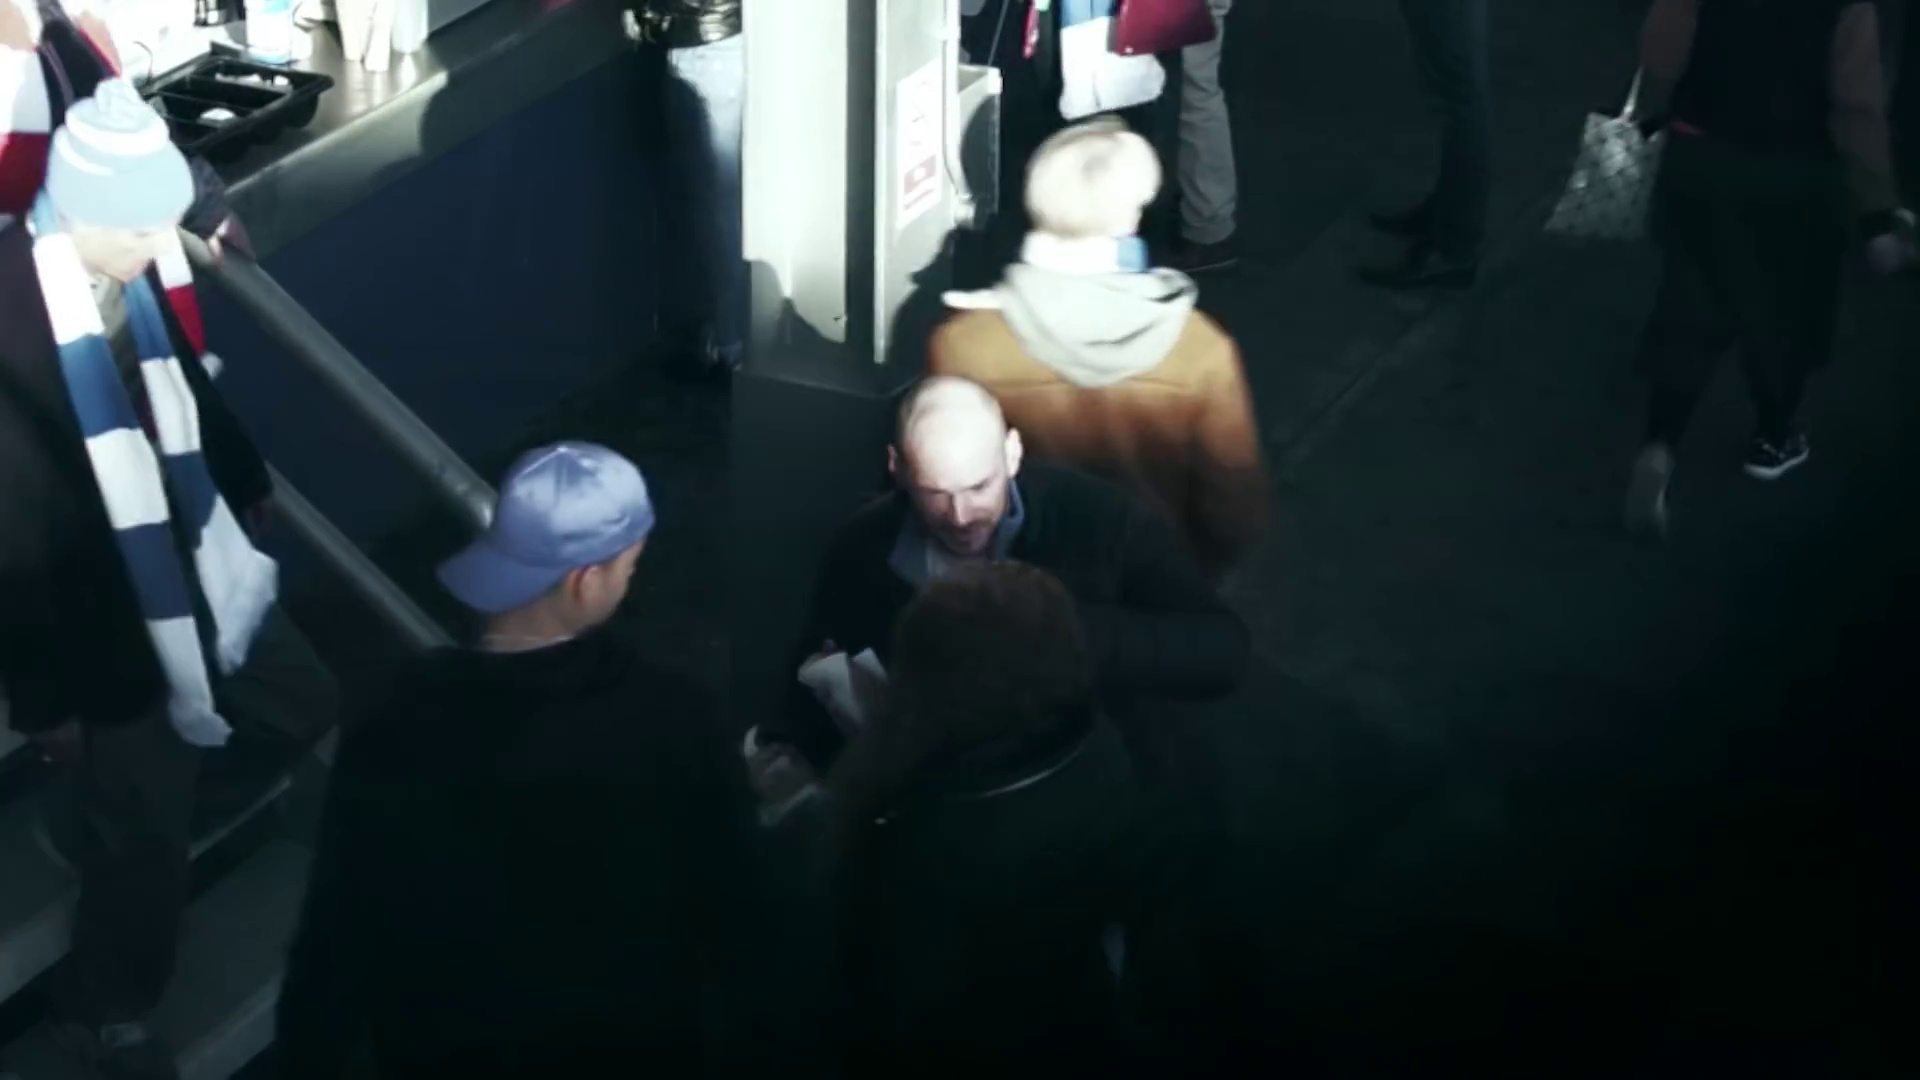face: (889, 446, 1015, 556)
